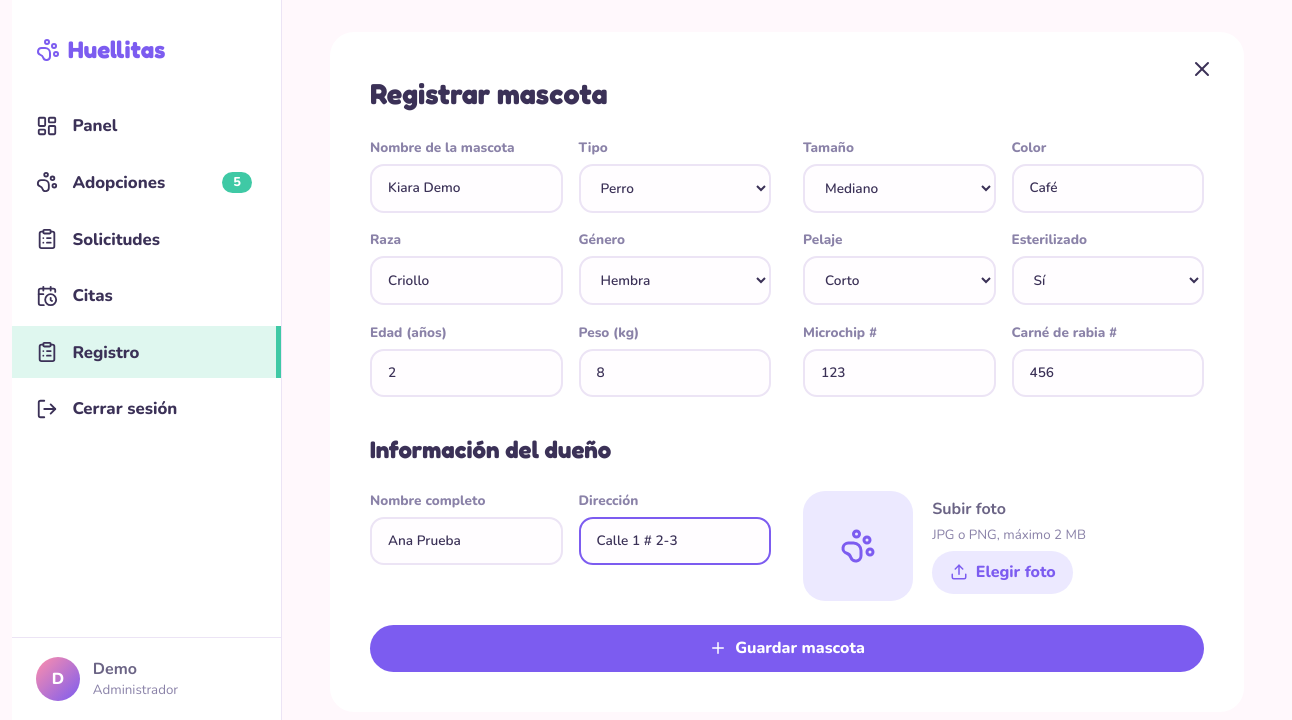
Scenario: Solicitudes de adopción › flujo completo con mascota nueva: registrar → catálogo → solicitar → Solicitudes
Earlier steps of the test are not shown.
Click the button "Guardar mascota".
click(787, 648)  # box [370,625,1204,672]
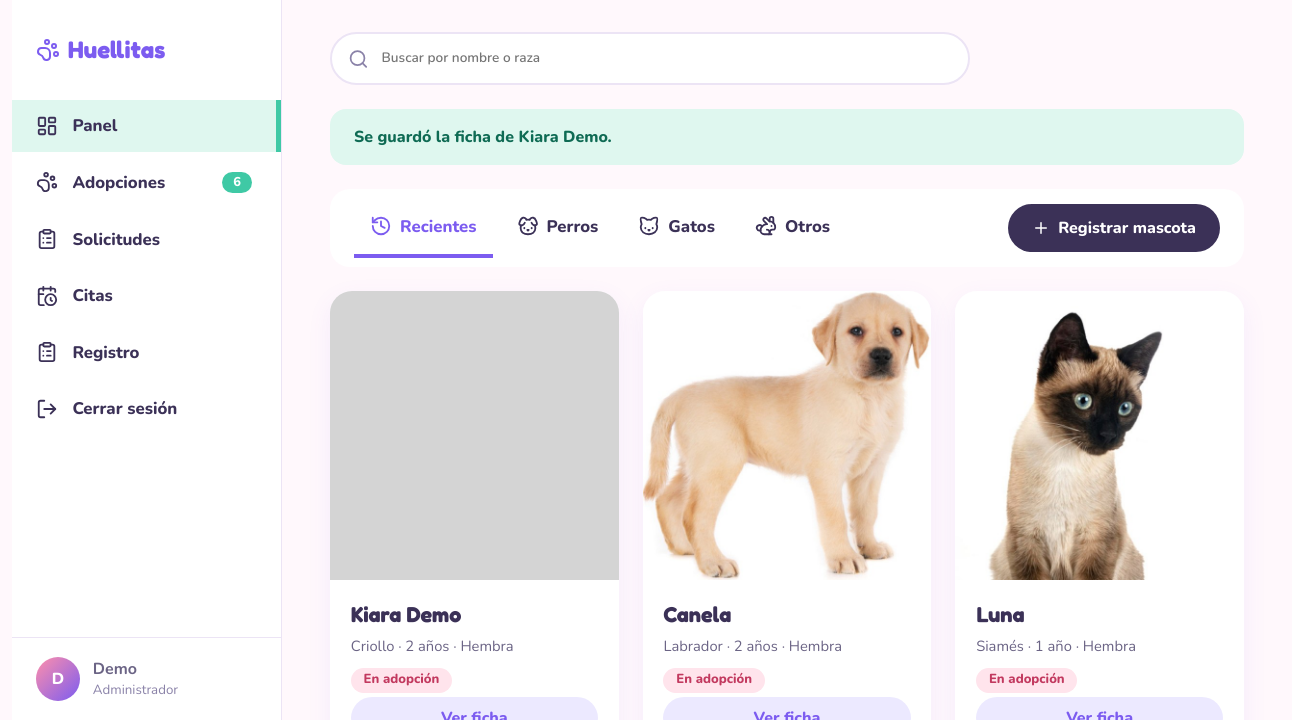
Click the button "Adopciones 6".
click(146, 182)  # box [12,157,281,208]
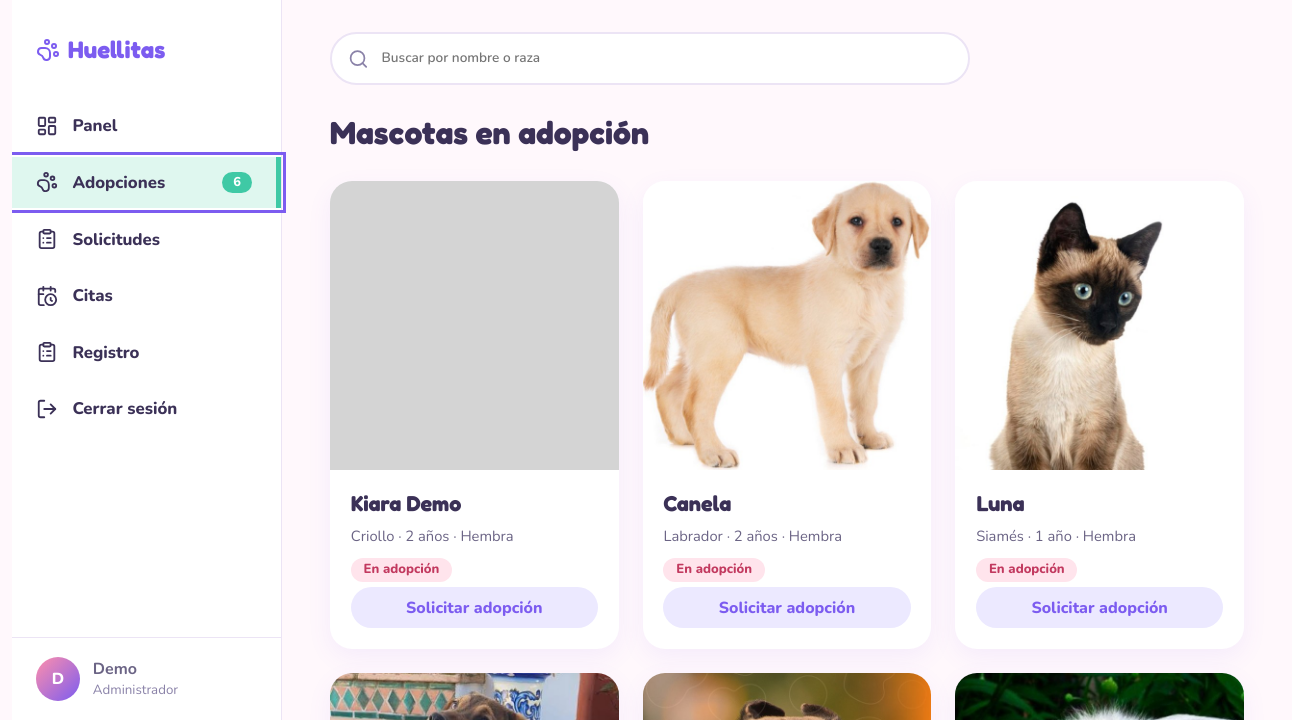
Click the button "Solicitar adopción" below "Criollo".
click(474, 608)  # box [351,587,598,628]
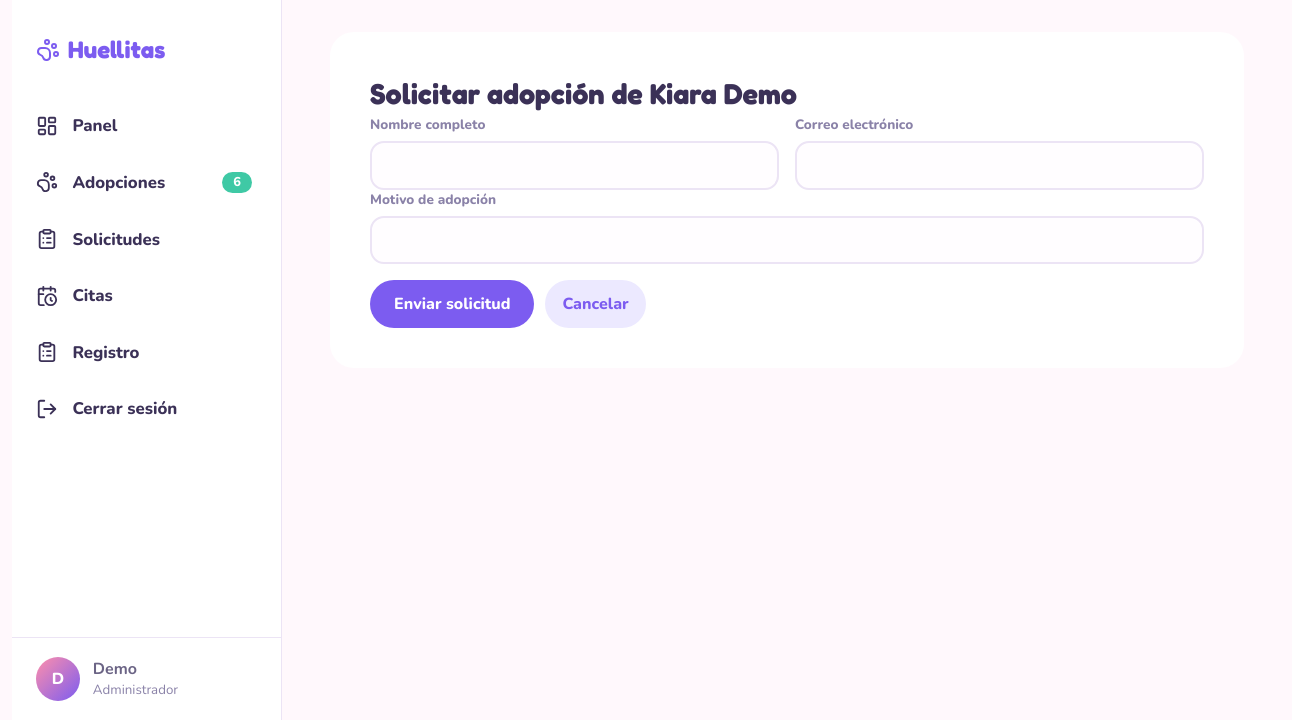
Type "Carlos Solicitante" into the field labelled "Nombre completo".
click(574, 165); type("Carlos Solicitante")  # box [370,141,779,190]
Type "carlos@correo.com" into the field labelled "Correo electrónico".
click(1000, 165); type("carlos@correo.com")  # box [795,141,1204,190]
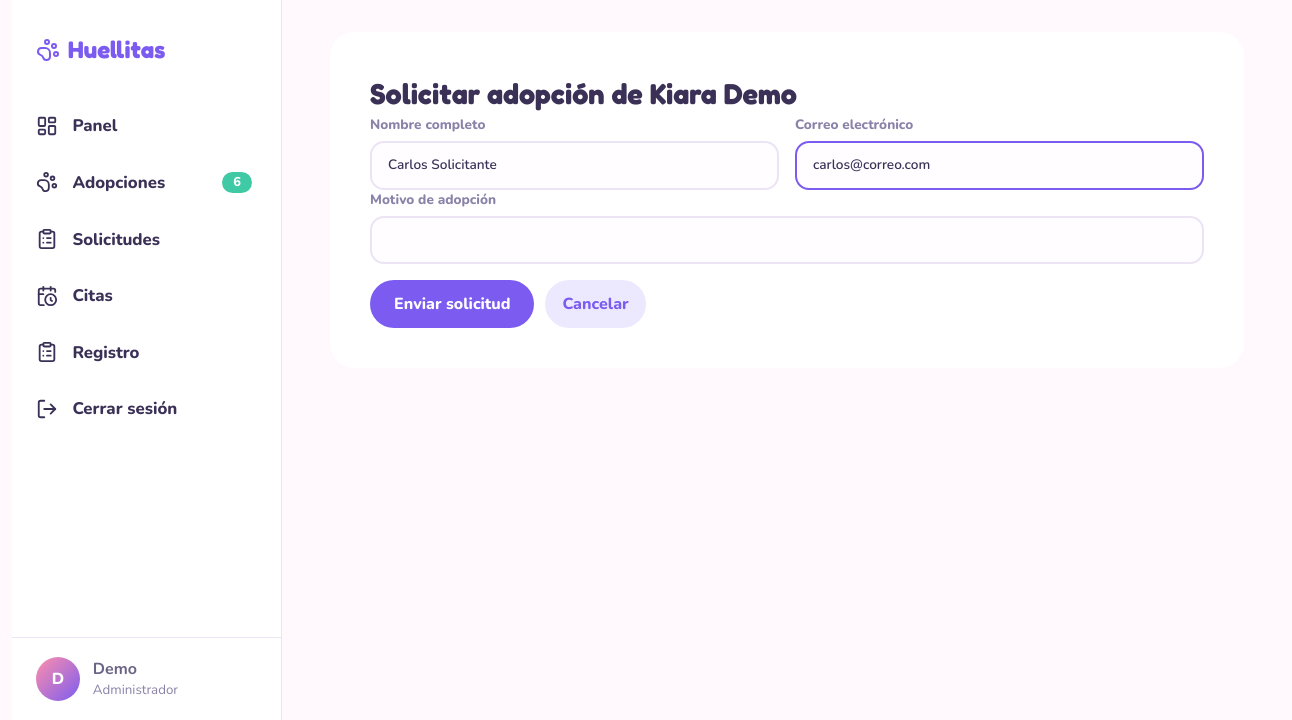
Type "Quiero darle un hogar" into the field labelled "Motivo de adopción".
click(787, 240); type("Quiero darle un hogar")  # box [370,216,1204,264]
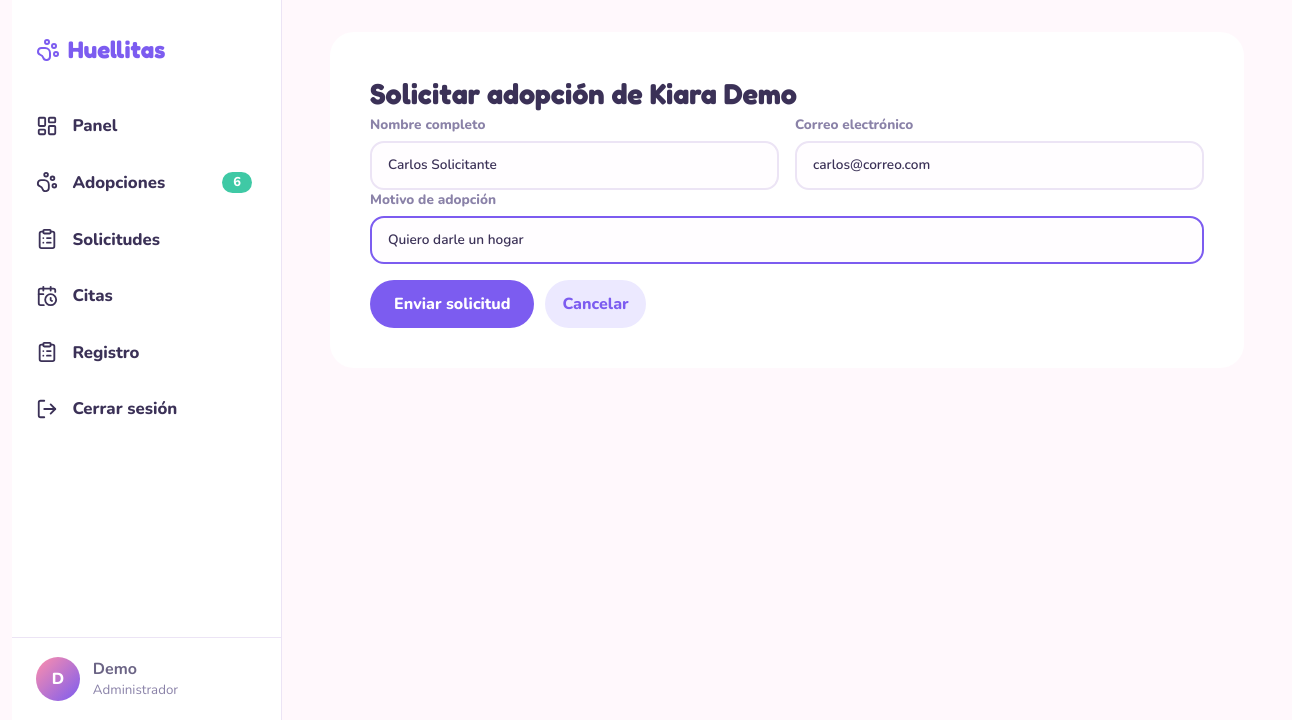
Click the button "Enviar solicitud".
click(452, 304)  # box [370,280,534,328]
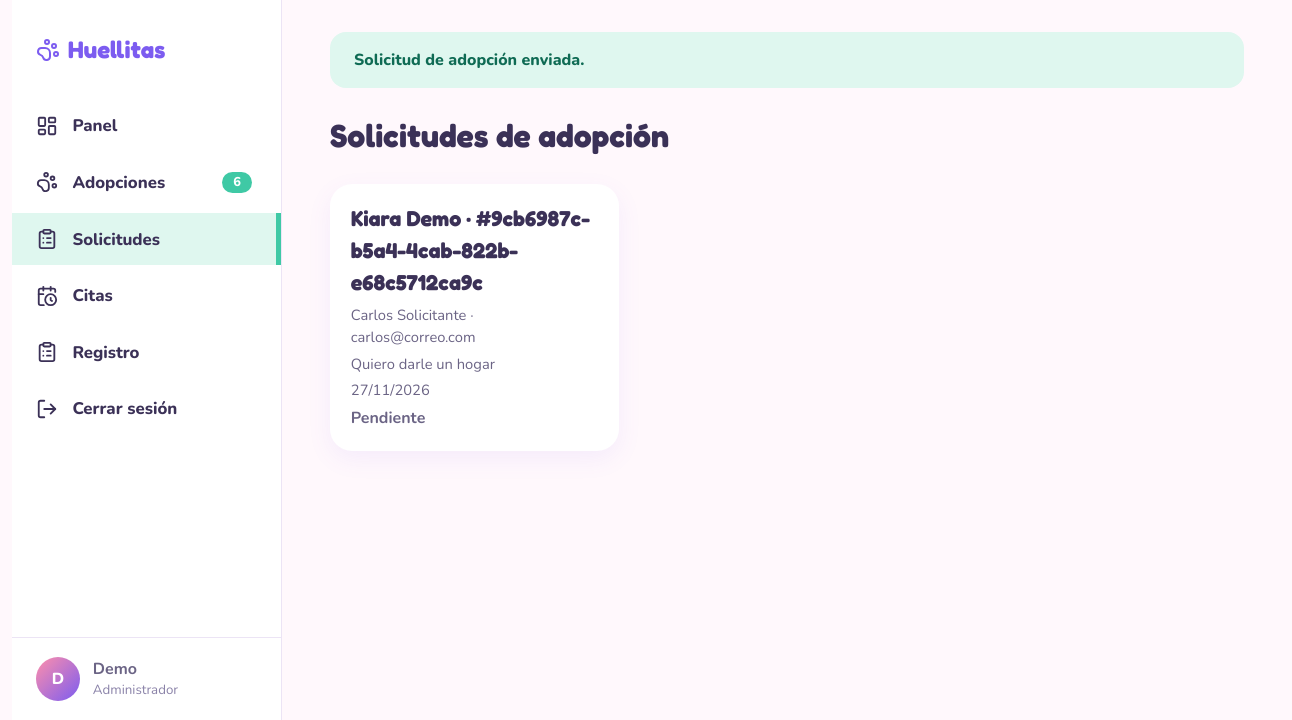
expect the heading "Kiara Demo · #" is shown: met, box [351,202,598,299]
expect the text "Pendiente" is shown: met, box [351,407,425,429]
